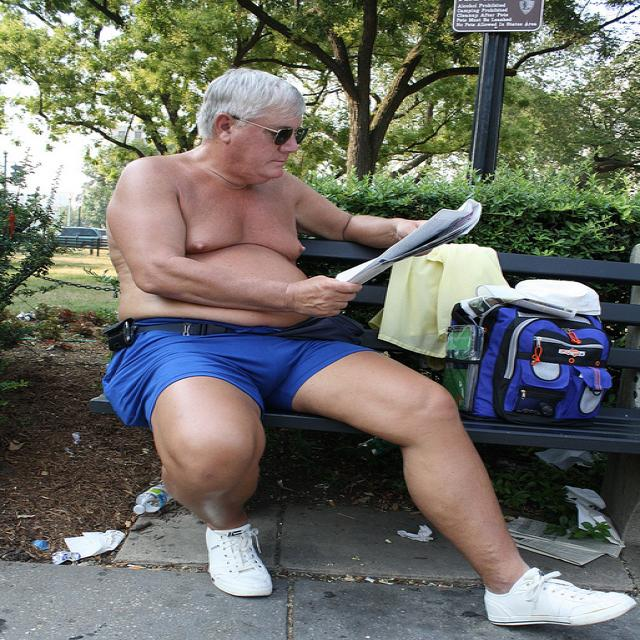Vehicle: (52, 227, 102, 248)
